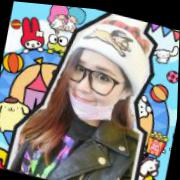WRONG: (58, 52, 128, 125)
